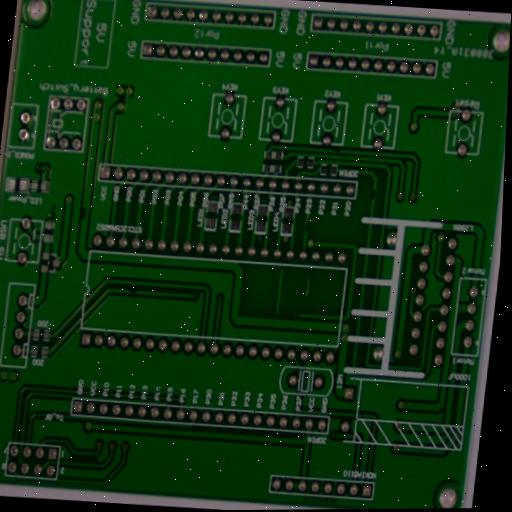mouse_bite: (75, 203, 91, 223), (366, 186, 381, 203), (300, 218, 315, 234), (328, 144, 344, 156), (125, 285, 140, 297)
